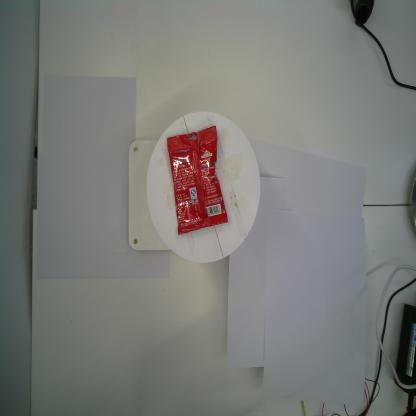Instant Drink: (167, 125, 228, 236)
